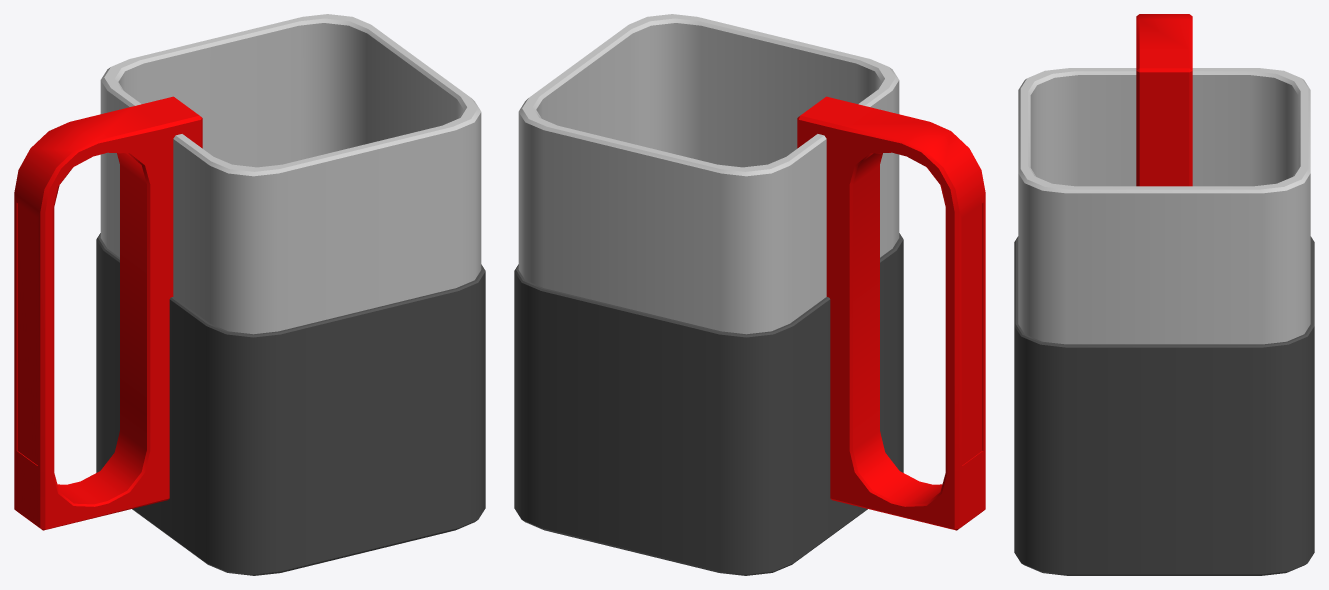
The model's file is Coffee Cup.fbx.
3 views of the same model, side by side, from view 1: azimuth 30°, elevation 25°; view 2: azimuth 150°, elevation 25°; view 3: azimuth 270°, elevation 25° (orthographic). The views are drawn at different scales.
Visible parts, largest first — view 1: Cup, Cube.002; view 2: Cup, Cube.002; view 3: Cup, Cube.002.
Part boxes in pixels (x1,y1,x2,y2): Cup: (96,14,485,575); Cube.002: (14,96,202,530); Cup: (514,14,903,575); Cube.002: (797,96,985,530); Cup: (1014,68,1314,575); Cube.002: (1136,14,1192,186).
Bounding box in the file's own units: 0.2863 × 0.1948 × 0.2836.
